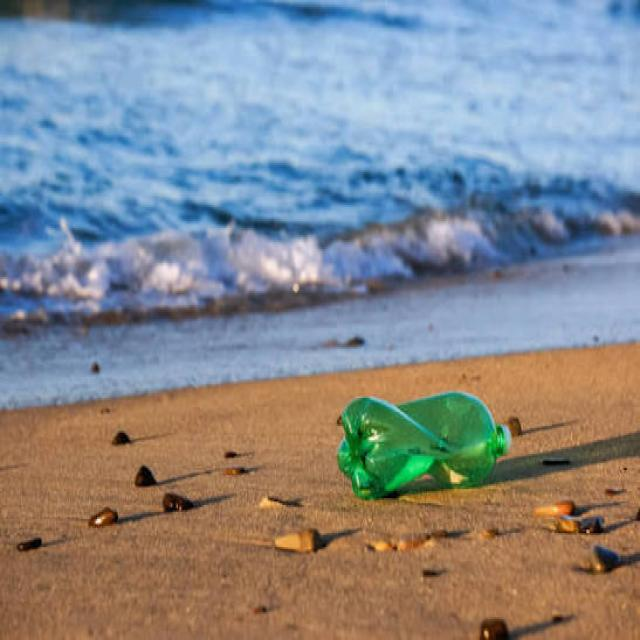plastic: (313, 328, 541, 526)
